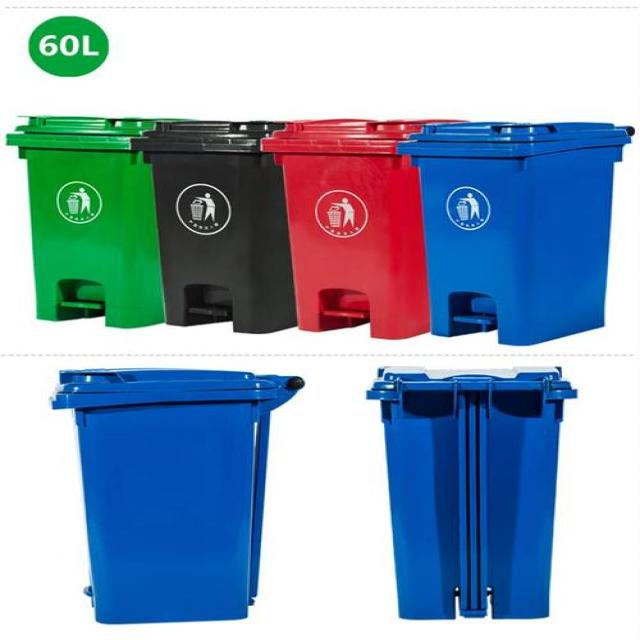garbage_bin: (52, 366, 304, 624), (394, 120, 634, 346), (365, 366, 576, 620), (260, 117, 470, 340), (4, 115, 194, 327), (130, 119, 298, 332)
